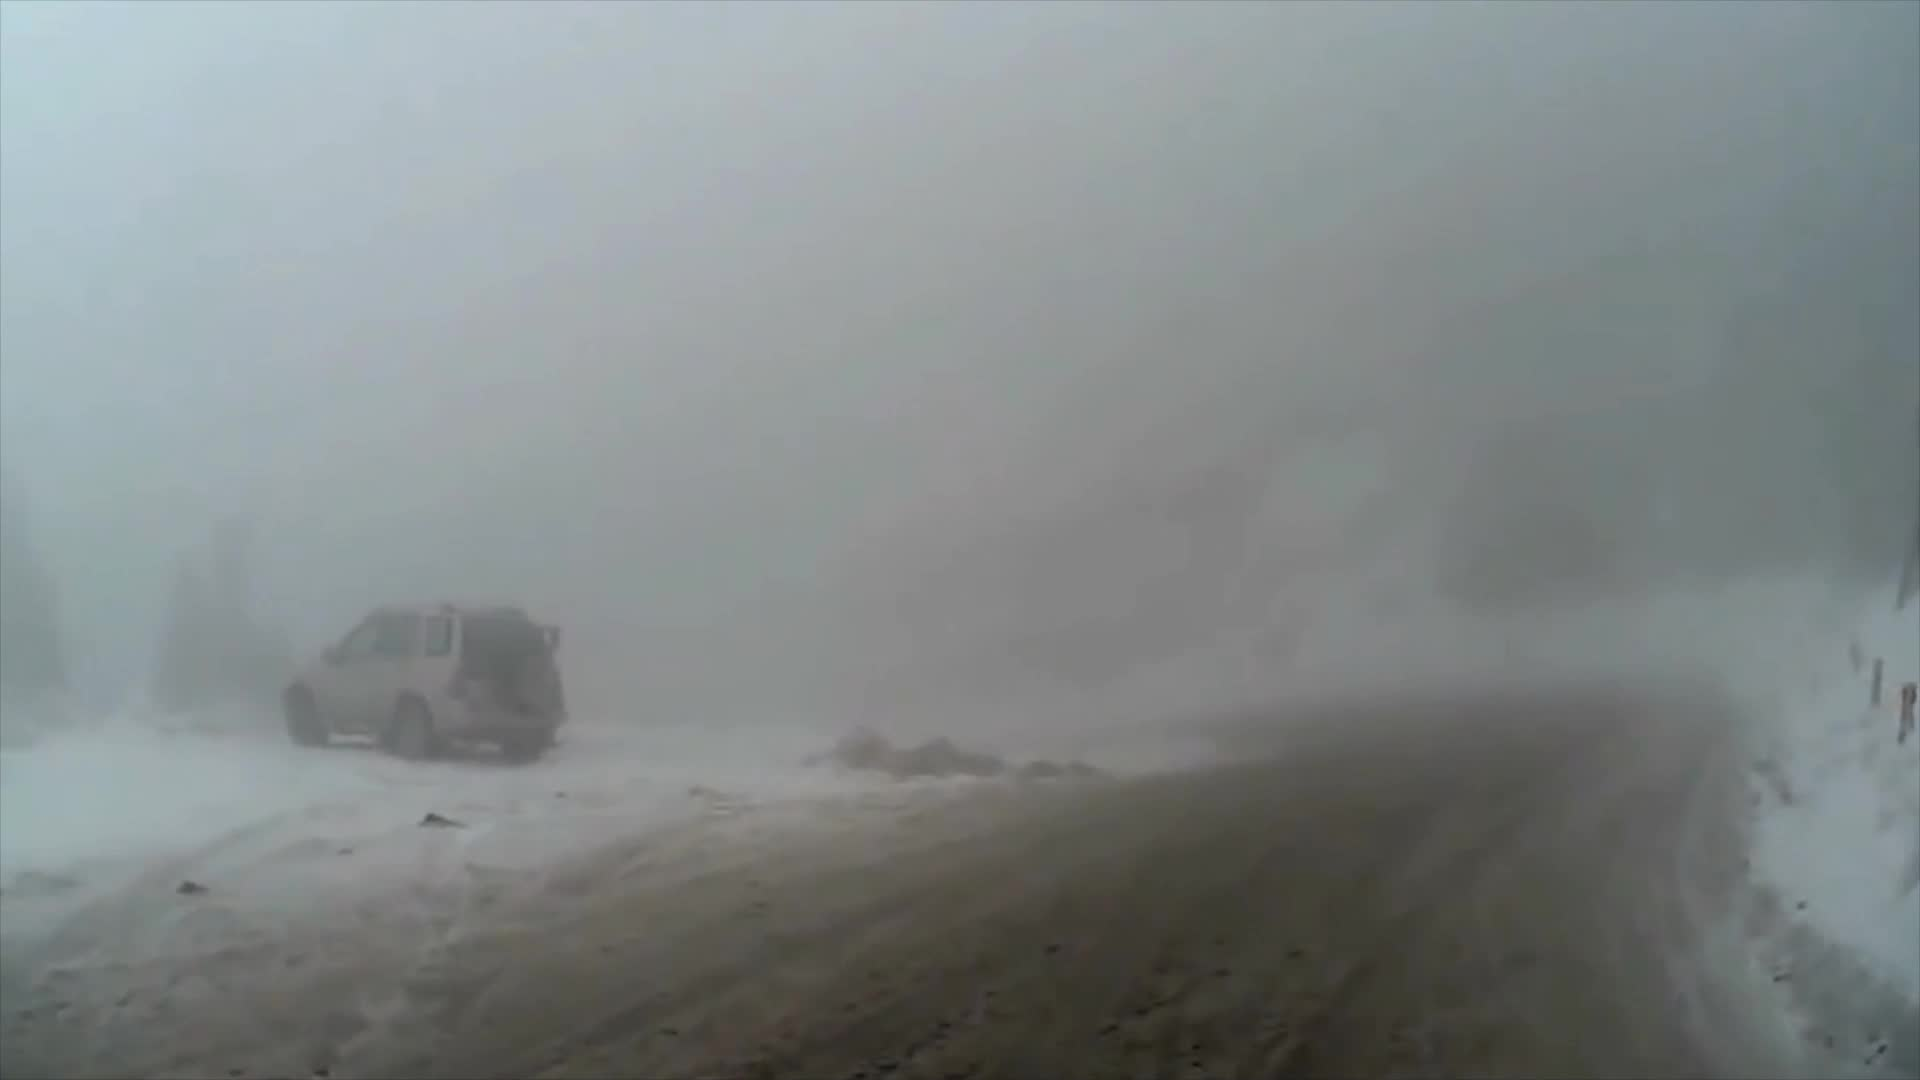vehicle: (276, 597, 560, 767)
